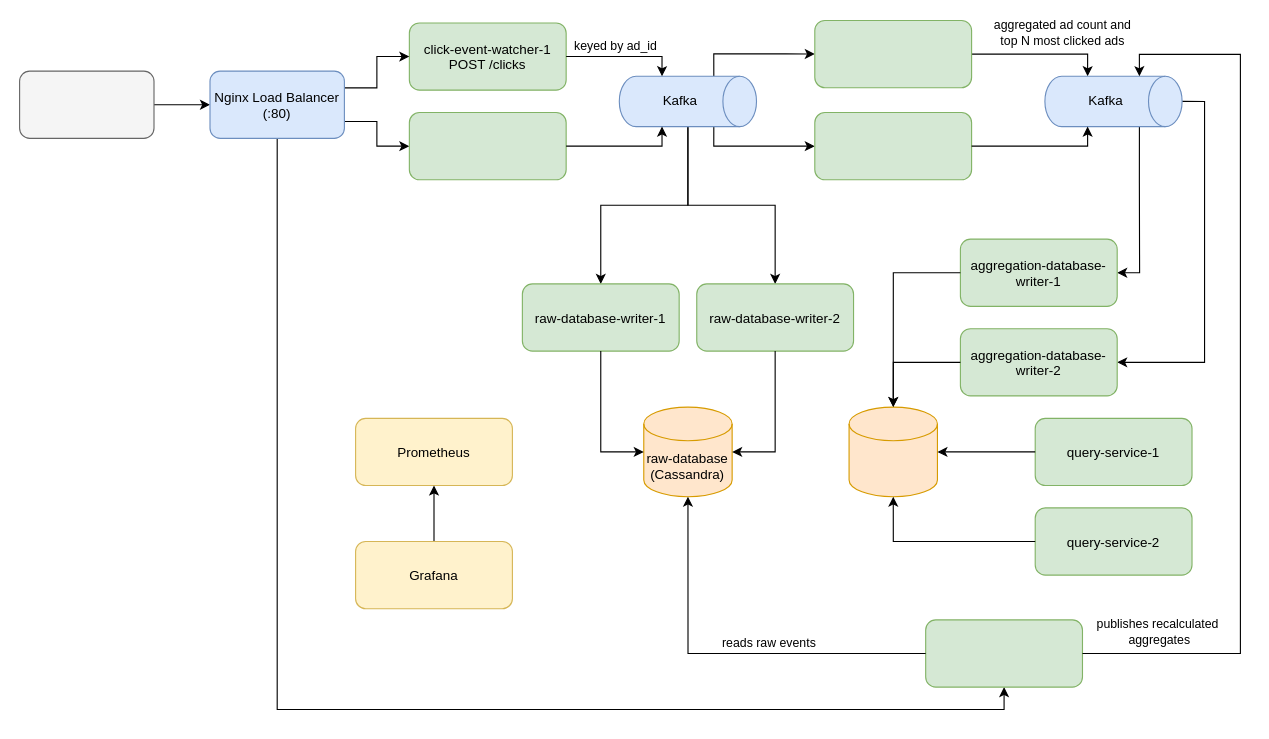
Image size: 1269x739. Some labels were removed from this diagram. Here are the shapes that lost their labels. From the top down, the centre of each, then its label:
At point 893,53: "aggregation-service-1 Kafka Streams DAG".
At point 86,104: "load-test-client (profile=test)".
At point 487,145: "click-event-watcher-2 POST /clicks".
At point 893,145: "aggregation-service-2 Kafka Streams DAG".
At point 892,451: "aggregation-database (Cassandra)".
At point 1003,653: "recalculation-service".
